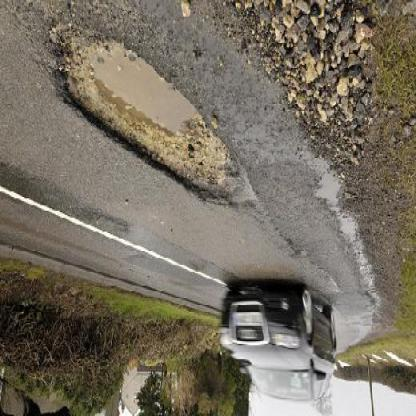pothole: (54, 42, 259, 211)
